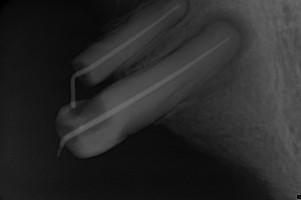Furcation Involvement: (161, 8, 258, 103)
